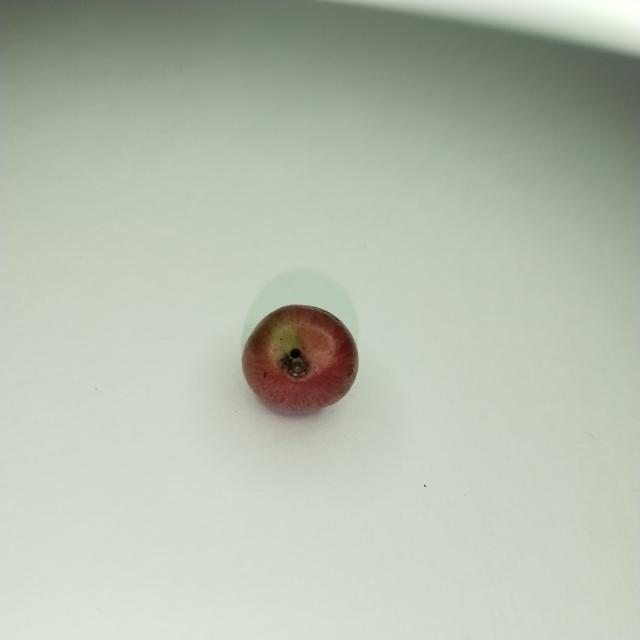Infectado: (242, 306, 360, 414)
